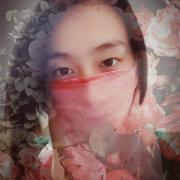OK: (41, 42, 135, 136)
